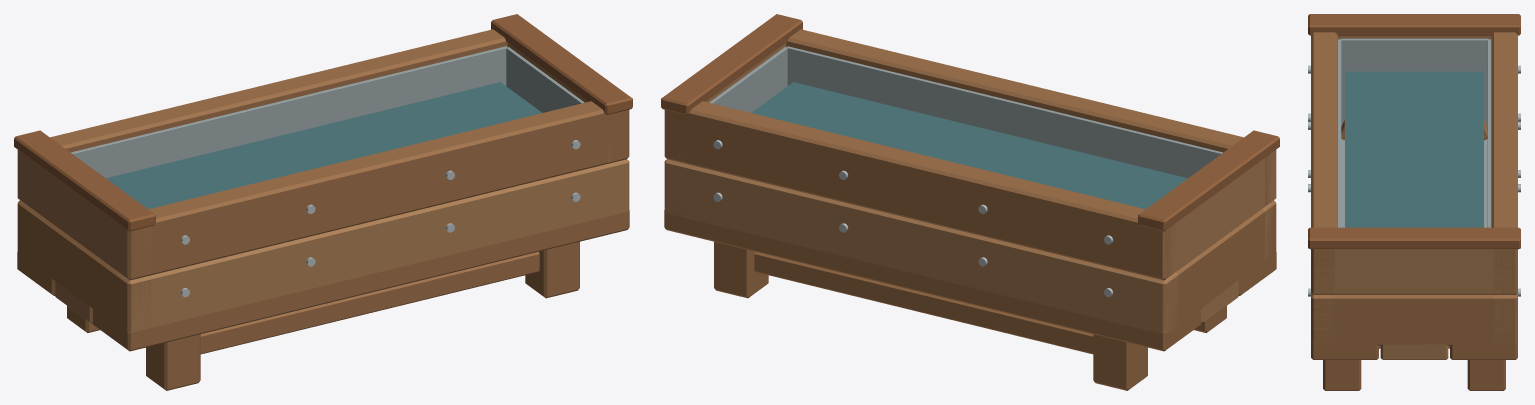
3 renders of one model, left to right at view 1: azimuth 30°, elevation 25°; view 2: azimuth 150°, elevation 25°; view 3: azimuth 270°, elevation 25°, orthographic. The views are drawn at different scales.
Visible parts, largest first — view 1: Front wall course 2, Front wall course 1, Water | draining state, Interior long liner 1, Basin bottom plank 1, Back wall course 2, Long lower stretcher, Left end course 1, Left end course 2, End rim cap -1, End rim cap 1, Square timber leg (+4 smaller); view 2: Back wall course 2, Back wall course 1, Water | draining state, Interior long liner -1, Front wall course 2, Basin bottom plank 3, Long lower stretcher.001, Left end course 1, Left end course 2, End rim cap -1, End rim cap 1, Square timber leg.001 (+4 smaller); view 3: Water | draining state, Right end course 1, Right end course 2, Front wall course 2, Back wall course 2, Interior end liner -1, End rim cap 1, End rim cap -1, Square timber leg.002, Square timber leg.003, Basin bottom plank 2, Basin bottom plank 1 (+7 smaller).
Boxes of the visible parts, bbox=[...] form: Front wall course 2: bbox=[127, 101, 629, 280]; Front wall course 1: bbox=[115, 159, 629, 332]; Water | draining state: bbox=[106, 82, 541, 209]; Interior long liner 1: bbox=[71, 46, 507, 178]; Basin bottom plank 1: bbox=[93, 210, 629, 351]; Back wall course 2: bbox=[50, 29, 507, 152]; Long lower stretcher: bbox=[200, 251, 539, 354]; Left end course 1: bbox=[17, 200, 151, 333]; Left end course 2: bbox=[17, 150, 151, 280]; End rim cap -1: bbox=[14, 130, 155, 231]; End rim cap 1: bbox=[491, 14, 632, 114]; Square timber leg: bbox=[146, 334, 200, 390]; Back wall course 2: bbox=[665, 101, 1177, 280]; Back wall course 1: bbox=[665, 159, 1178, 334]; Water | draining state: bbox=[752, 82, 1187, 209]; Interior long liner -1: bbox=[786, 46, 1222, 178]; Front wall course 2: bbox=[786, 29, 1273, 205]; Basin bottom plank 3: bbox=[664, 210, 1200, 351]; Long lower stretcher.001: bbox=[754, 251, 1093, 354]; Left end course 1: bbox=[1145, 200, 1276, 332]; Left end course 2: bbox=[1162, 150, 1276, 280]; End rim cap -1: bbox=[1138, 130, 1279, 231]; End rim cap 1: bbox=[661, 14, 802, 114]; Square timber leg.001: bbox=[1093, 334, 1147, 390]; Water | draining state: bbox=[1345, 71, 1483, 227]; Right end course 1: bbox=[1311, 293, 1517, 345]; Right end course 2: bbox=[1311, 249, 1517, 294]; Front wall course 2: bbox=[1311, 32, 1337, 294]; Back wall course 2: bbox=[1491, 32, 1517, 294]; Interior end liner -1: bbox=[1341, 38, 1487, 125]; End rim cap 1: bbox=[1308, 227, 1520, 249]; End rim cap -1: bbox=[1308, 14, 1520, 35]; Square timber leg.002: bbox=[1323, 360, 1361, 390]; Square timber leg.003: bbox=[1467, 360, 1505, 390]; Basin bottom plank 2: bbox=[1380, 343, 1448, 359]; Basin bottom plank 1: bbox=[1311, 342, 1378, 359].
Bounding box in the file's own units: 1.81 × 0.645 × 0.72.
